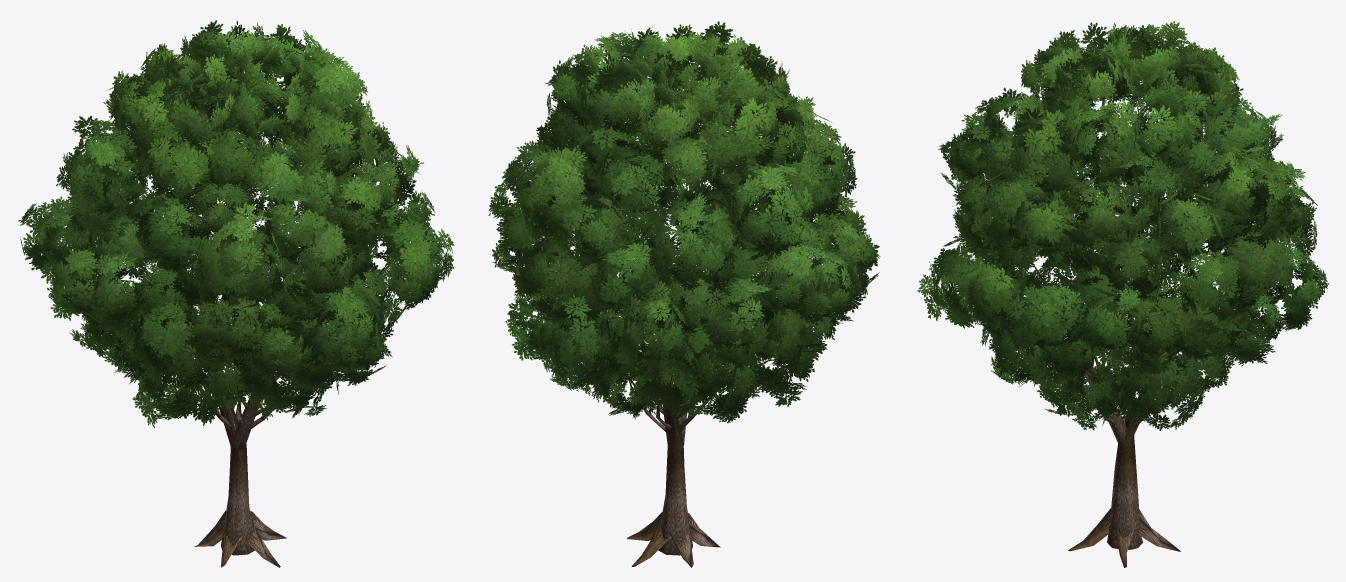
Rendered from mm6_deco_tree05.glb.
3 views of the same model, side by side, from view 1: azimuth 30°, elevation 25°; view 2: azimuth 150°, elevation 25°; view 3: azimuth 270°, elevation 25° (orthographic).
Visible parts, largest first — view 1: Tree; view 2: Tree; view 3: Tree.
Boxes of the visible parts, x1,y1,x2,y2 form: Tree: (18, 20, 454, 567); Tree: (488, 21, 880, 567); Tree: (917, 21, 1329, 567).
Bounding box in the file's own units: 5.78 × 7.44 × 5.53.
Materials: 2 (2 with a texture image).
